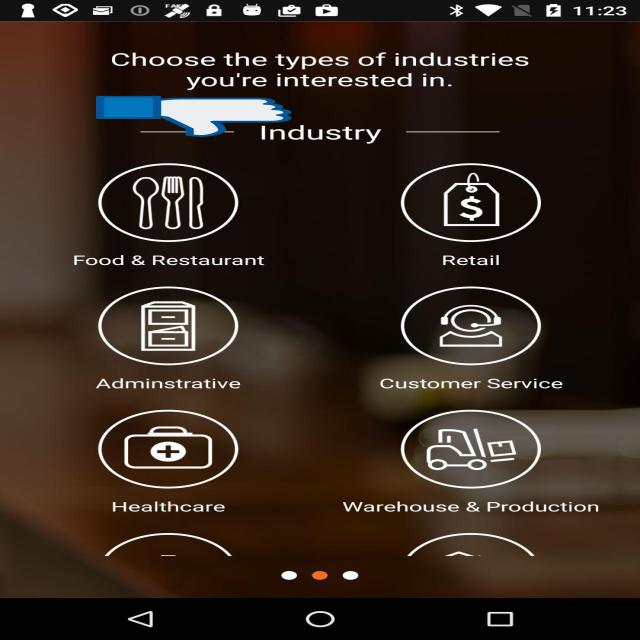obstruction: (96, 95, 292, 138)
